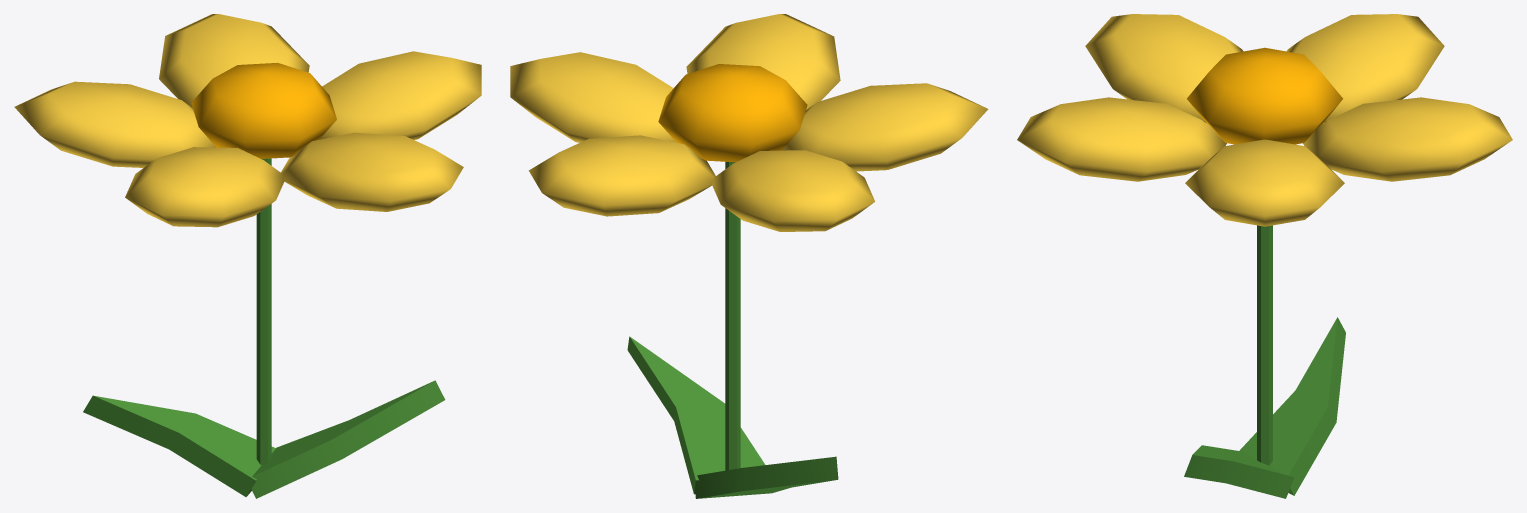
File: prop_flower_0.glb
3 renders of one model, left to right at view 1: azimuth 30°, elevation 25°; view 2: azimuth 150°, elevation 25°; view 3: azimuth 270°, elevation 25°, orthographic. The views are drawn at different scales.
Parts seen in each view (by area): view 1: Petal0_2, Petal0_4, Petal0_0, Centre0, Petal0_3, Leaf1, Petal0_1, Leaf0, Stem0; view 2: Petal0_3, Petal0_1, Petal0_0, Centre0, Petal0_2, Petal0_4, Leaf0, Stem0, Leaf1; view 3: Petal0_1, Petal0_4, Centre0, Petal0_2, Petal0_3, Petal0_0, Leaf1, Stem0, Leaf0.
Boxes of the visible parts, left/top/right/bottom form: Petal0_2: left=14, top=81, right=215, bottom=167; Petal0_4: left=281, top=132, right=463, bottom=211; Petal0_0: left=319, top=51, right=481, bottom=139; Centre0: left=191, top=62, right=336, bottom=158; Petal0_3: left=125, top=147, right=284, bottom=227; Leaf1: left=83, top=395, right=275, bottom=496; Petal0_1: left=159, top=14, right=309, bottom=107; Leaf0: left=251, top=380, right=445, bottom=498; Stem0: left=256, top=158, right=271, bottom=465; Petal0_3: left=782, top=83, right=988, bottom=171; Petal0_1: left=528, top=135, right=715, bottom=216; Petal0_0: left=510, top=52, right=676, bottom=142; Centre0: left=658, top=64, right=807, bottom=162; Petal0_2: left=712, top=150, right=874, bottom=231; Petal0_4: left=686, top=14, right=840, bottom=109; Leaf0: left=627, top=336, right=765, bottom=494; Stem0: left=725, top=161, right=740, bottom=470; Leaf1: left=695, top=456, right=838, bottom=498; Petal0_1: left=1303, top=97, right=1512, bottom=181; Petal0_4: left=1017, top=97, right=1226, bottom=181; Centre0: left=1187, top=47, right=1342, bottom=144; Petal0_2: left=1286, top=14, right=1444, bottom=123; Petal0_3: left=1085, top=14, right=1243, bottom=123; Petal0_0: left=1185, top=139, right=1344, bottom=226; Leaf1: left=1239, top=317, right=1345, bottom=495; Stem0: left=1257, top=225, right=1272, bottom=465; Leaf0: left=1184, top=445, right=1294, bottom=498.
Bounding box in the file's own units: 0.6103 × 0.5982 × 0.6326.
